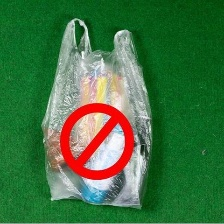plastic_bag: (39, 16, 156, 209)
